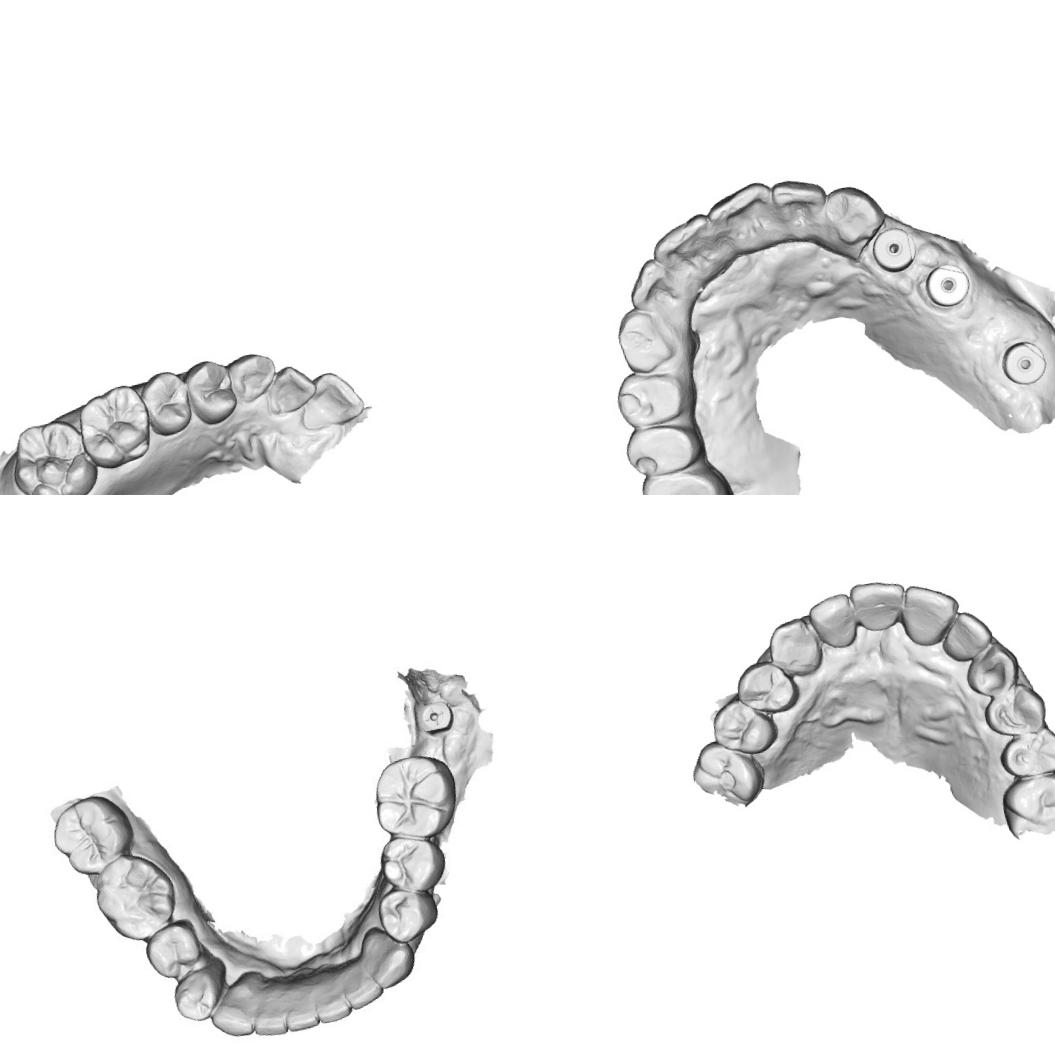canine: (817, 176, 887, 246), (356, 919, 420, 993), (611, 304, 676, 375), (762, 610, 824, 683), (958, 640, 1028, 704), (202, 974, 265, 1041), (222, 348, 280, 408)
implant: (996, 330, 1050, 389), (925, 256, 981, 311), (870, 222, 918, 275)
implant_plus: (411, 692, 456, 737)
incisor: (894, 575, 967, 651), (706, 180, 782, 251), (294, 366, 368, 431), (846, 574, 911, 639), (651, 214, 720, 274), (933, 605, 997, 666), (258, 360, 321, 418), (803, 590, 860, 654), (620, 253, 680, 312), (766, 176, 825, 235), (244, 975, 291, 1043), (336, 951, 386, 1012), (276, 972, 320, 1035), (308, 964, 352, 1026)
molar: (365, 750, 461, 843), (87, 852, 182, 944), (46, 788, 140, 878), (2, 414, 101, 495), (73, 380, 158, 473), (684, 732, 770, 813), (994, 769, 1055, 838), (640, 463, 729, 495)
premolar: (705, 687, 782, 763), (374, 829, 454, 901), (618, 416, 704, 480), (612, 366, 690, 432), (177, 354, 240, 429), (134, 364, 196, 440), (979, 679, 1052, 742), (730, 655, 800, 720), (374, 884, 444, 945), (138, 917, 204, 980), (168, 962, 230, 1026), (995, 725, 1055, 782)
